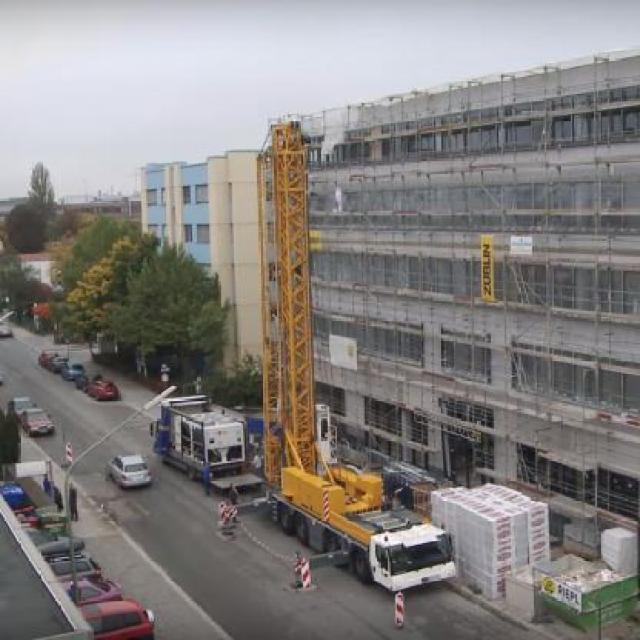Mobile Crane: (258, 114, 460, 597)
